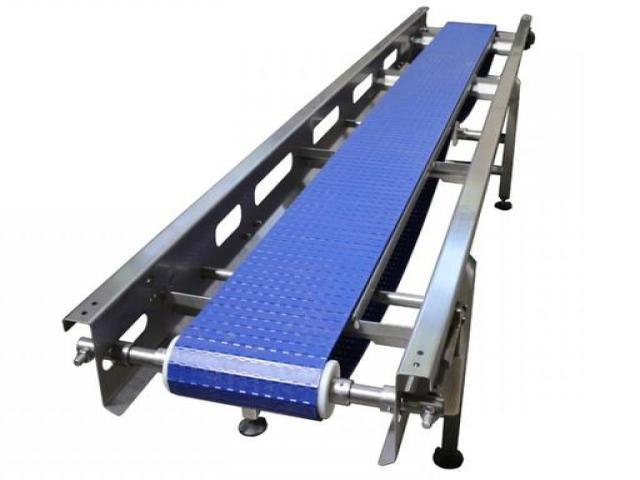conveyor: (55, 7, 567, 465)
